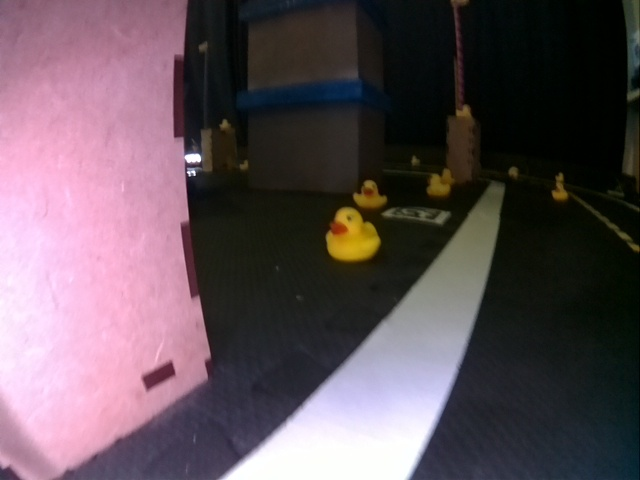Duckie: (326, 208, 380, 260), (353, 180, 387, 209), (427, 175, 449, 195)
QR code: (384, 206, 445, 221)
